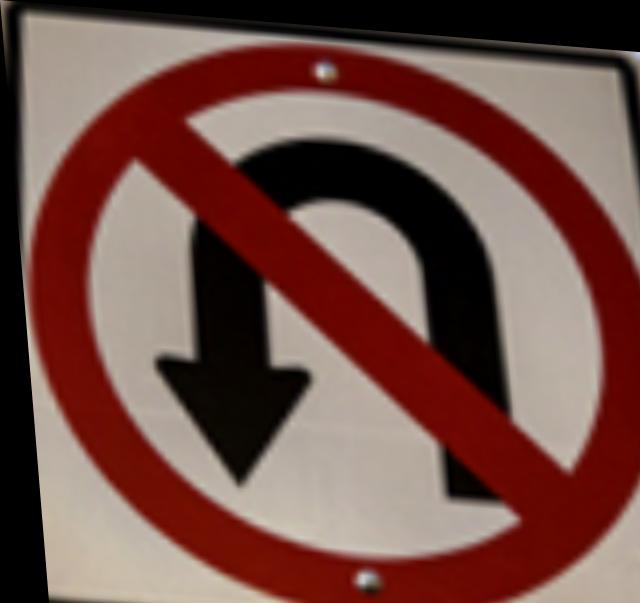not_u_turn_left: (26, 27, 640, 603)
